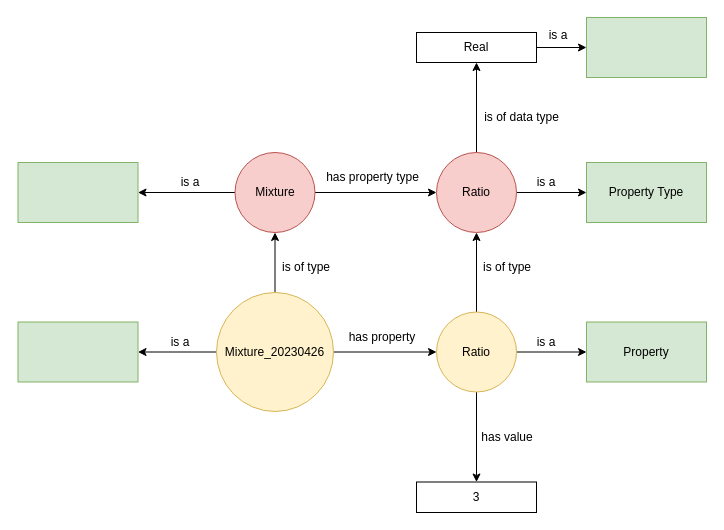
The diagram is 724 pixels wide and 530 high, and some of its shapes have lost their labels. The shapes that lost their labels are listed below. From the top down, each one's centre as x and y in pixels, then its label:
the point at 646,47: Data Type
the point at 77,192: Object Type
the point at 77,351: Object
